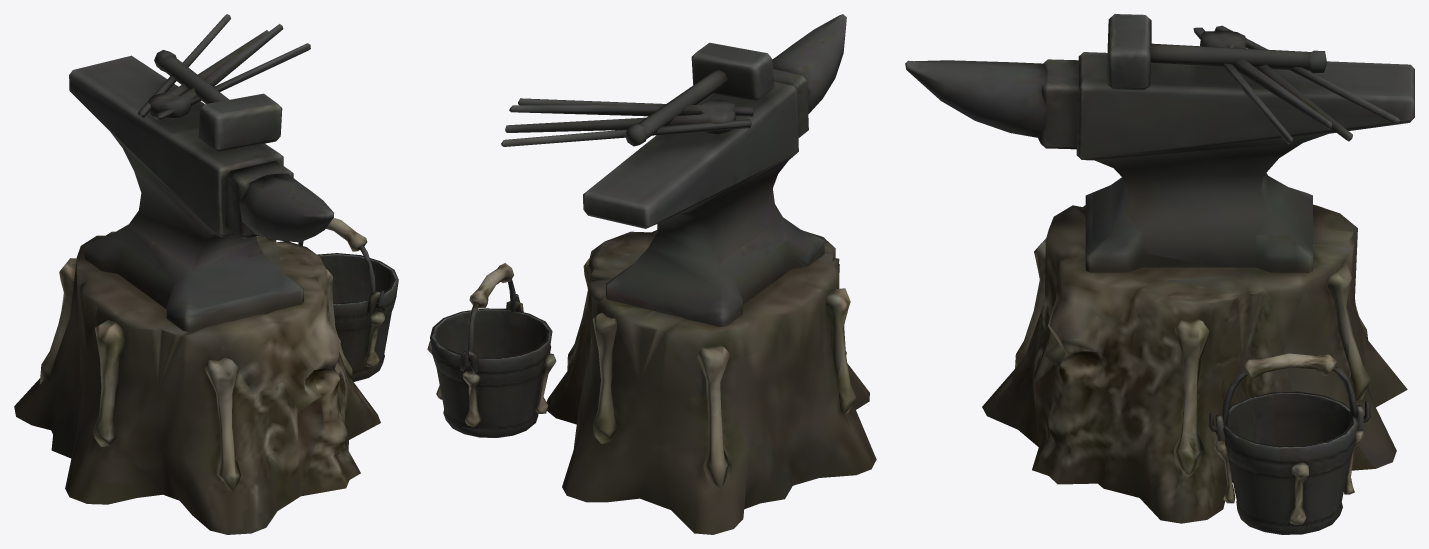
File: prop_node_grave_anvil.glb
3 renders of one model, left to right at view 1: azimuth 30°, elevation 25°; view 2: azimuth 150°, elevation 25°; view 3: azimuth 270°, elevation 25°, orthographic. The views are drawn at different scales.
Parts seen in each view (by area): view 1: tripo_node_2030ebc2-f365-476a-b1f4-c8a4d13339c8; view 2: tripo_node_2030ebc2-f365-476a-b1f4-c8a4d13339c8; view 3: tripo_node_2030ebc2-f365-476a-b1f4-c8a4d13339c8.
Boxes of the visible parts, bbox=[...] form: tripo_node_2030ebc2-f365-476a-b1f4-c8a4d13339c8: bbox=[14, 14, 398, 534]; tripo_node_2030ebc2-f365-476a-b1f4-c8a4d13339c8: bbox=[427, 14, 876, 534]; tripo_node_2030ebc2-f365-476a-b1f4-c8a4d13339c8: bbox=[905, 14, 1414, 534].
Size of the model in its own units: 0.9511 by 0.8808 by 0.998.
1 material, 1 textured.
